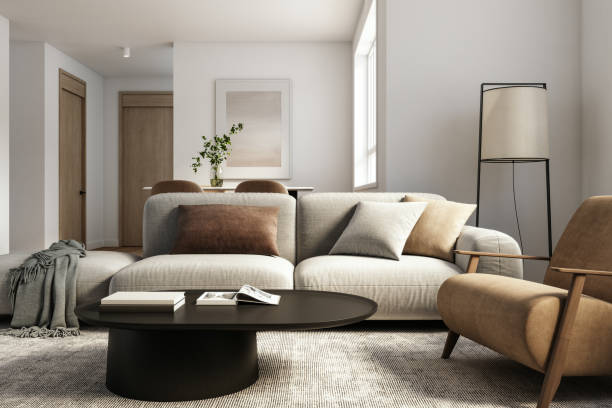chair: (434, 192, 612, 408)
floor lamp: (475, 79, 553, 265)
small plant: (192, 123, 245, 189)
sofa: (2, 189, 527, 324)
table: (73, 290, 380, 402)
wall art: (210, 74, 293, 181)
